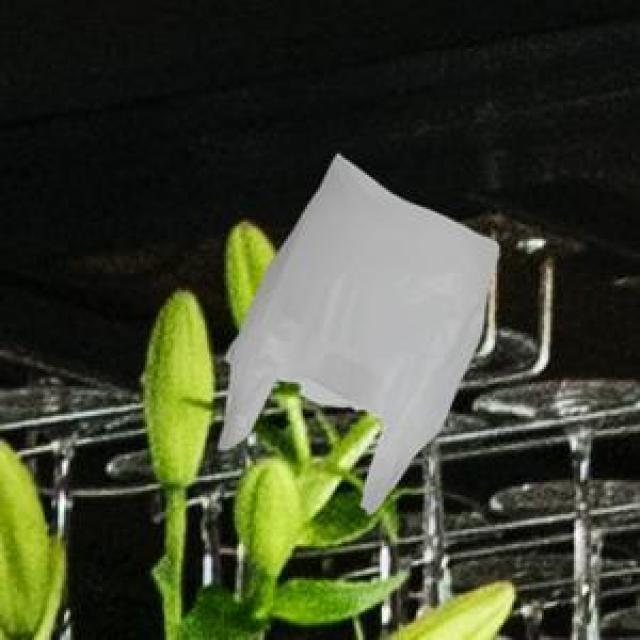Bolsa-de-nilon: (218, 156, 501, 513)
